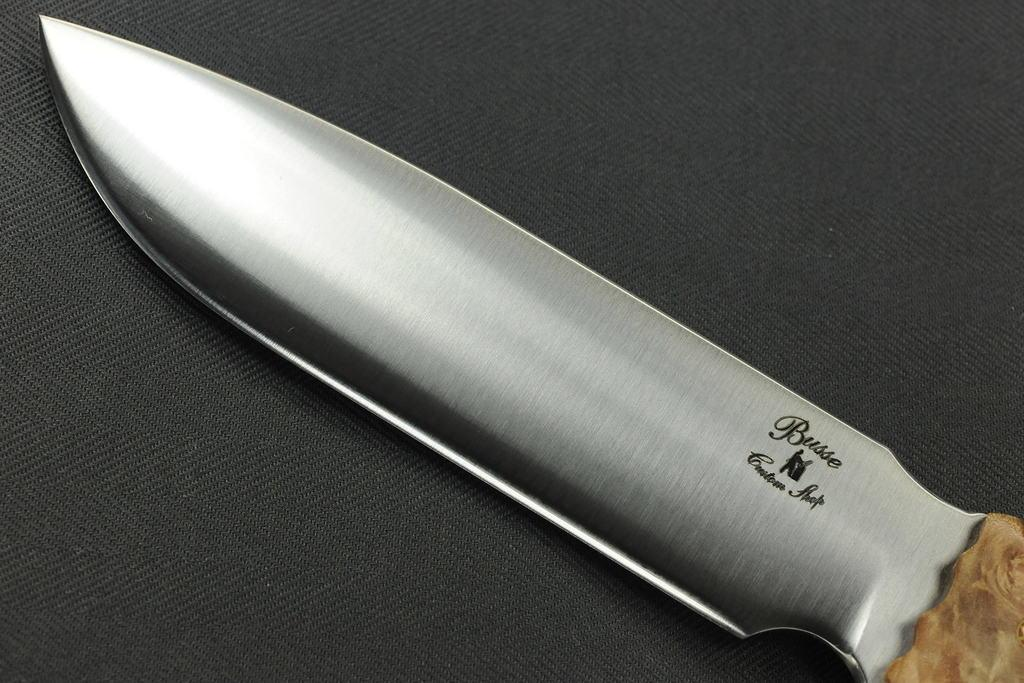Knife: (34, 14, 1022, 682)
